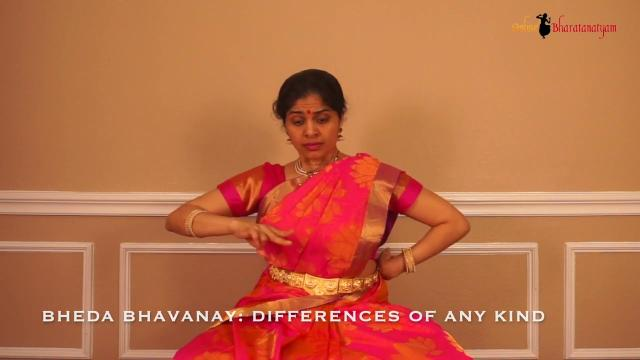kartarimukh: (220, 203, 298, 267)
